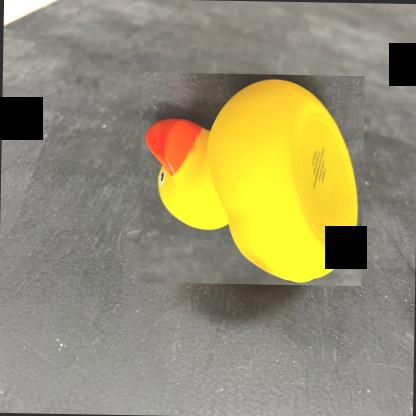duck: (139, 73, 364, 286)
